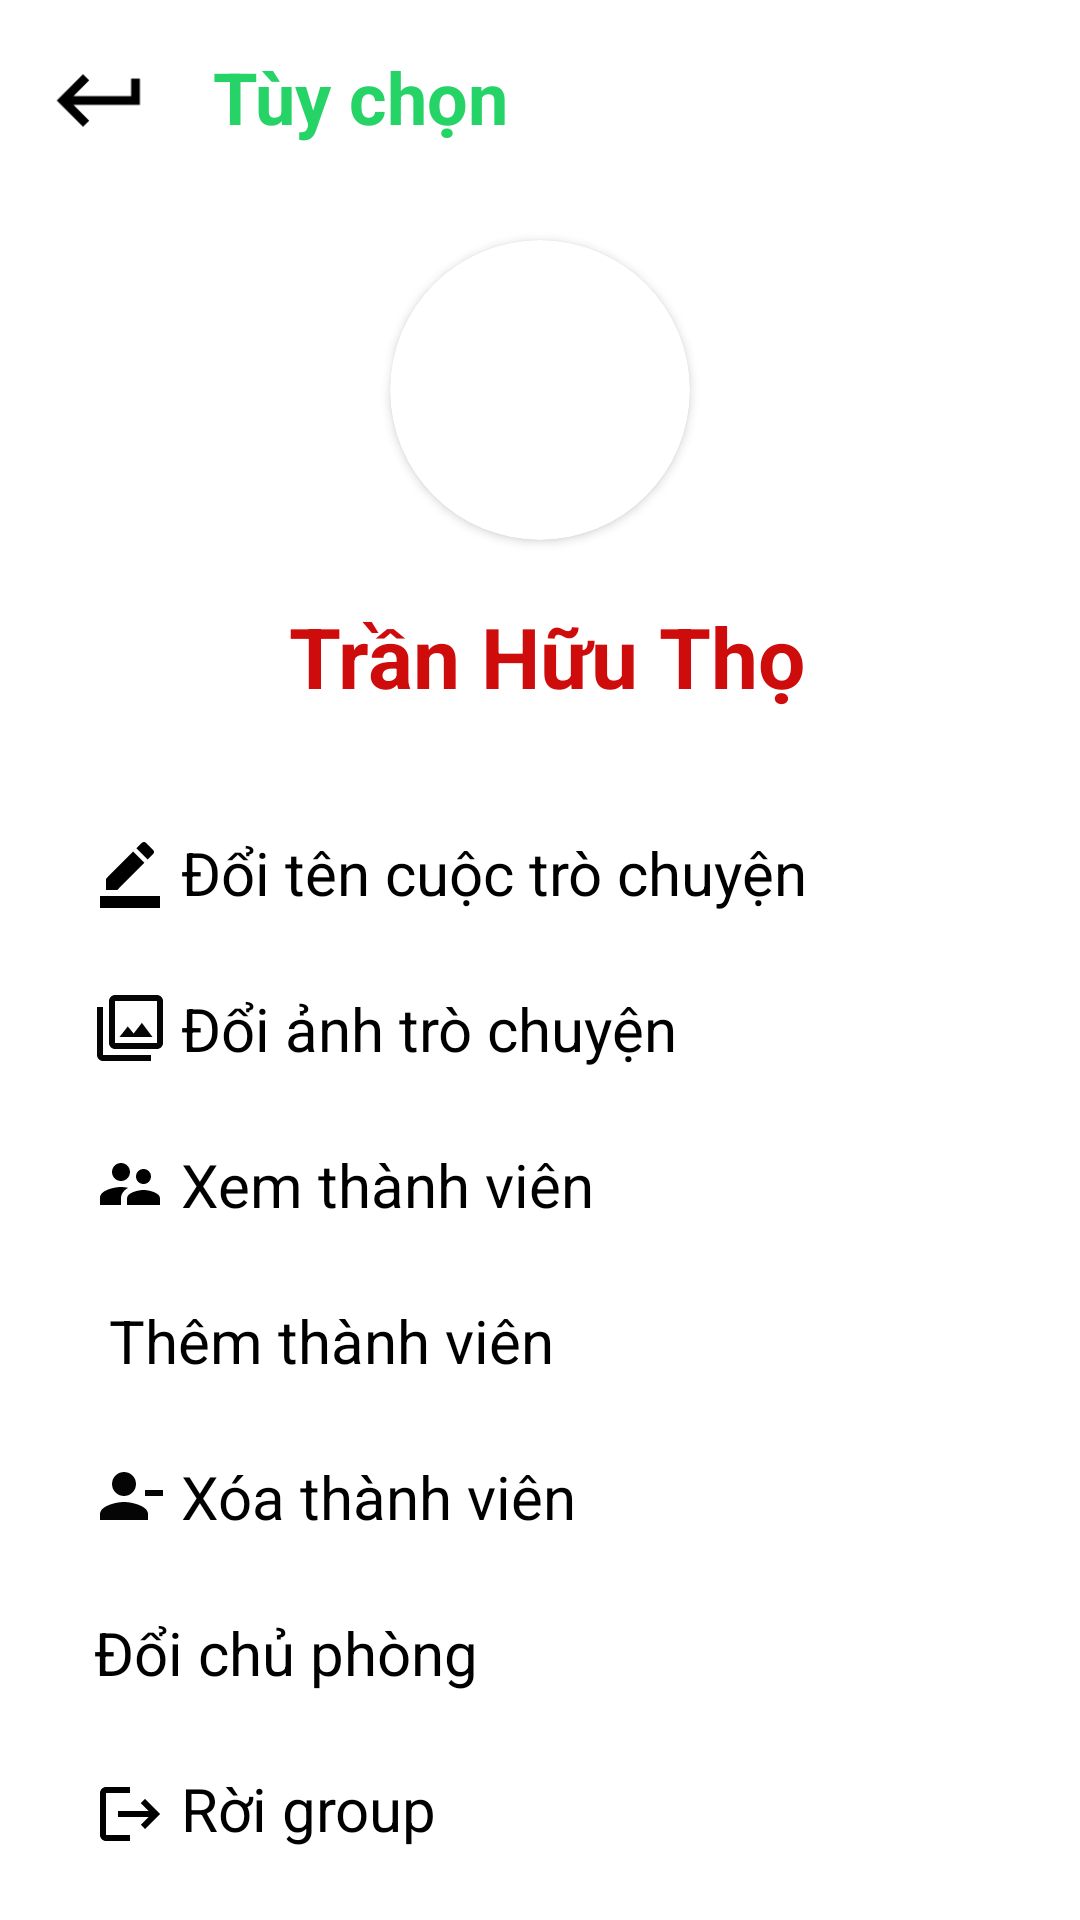

Point at icon controls on the screen. Image size 1080w x 1920h, points as (x=x, y=y).
keyboard return: (x=98, y=100)
